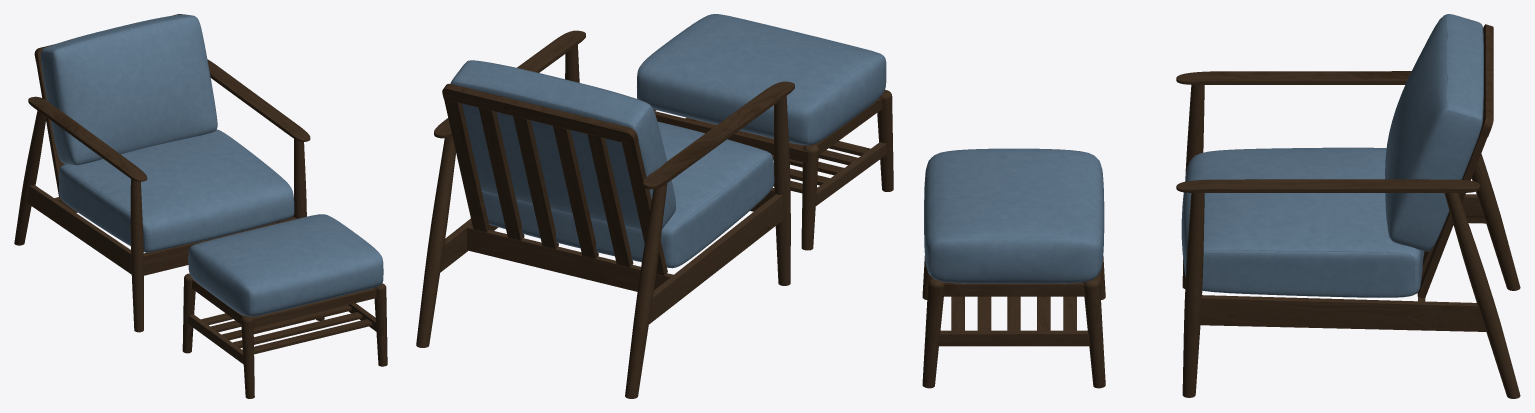
Rendered from chair_67_04.001.fbx.
The picture shows the model from 3 angles, left to right: view 1: azimuth 30°, elevation 25°; view 2: azimuth 150°, elevation 25°; view 3: azimuth 270°, elevation 25°; orthographic projection. The views are drawn at different scales.
Parts seen in each view (by area): view 1: chair_67_04.001; view 2: chair_67_04.001; view 3: chair_67_04.001.
Part boxes in pixels (bbox=[...]): chair_67_04.001: bbox=[14, 14, 387, 398]; chair_67_04.001: bbox=[416, 14, 893, 398]; chair_67_04.001: bbox=[922, 14, 1520, 398].
Bounding box in the file's own units: 76.92 × 87.2 × 165.
Materials: 1 (1 with a texture image).
